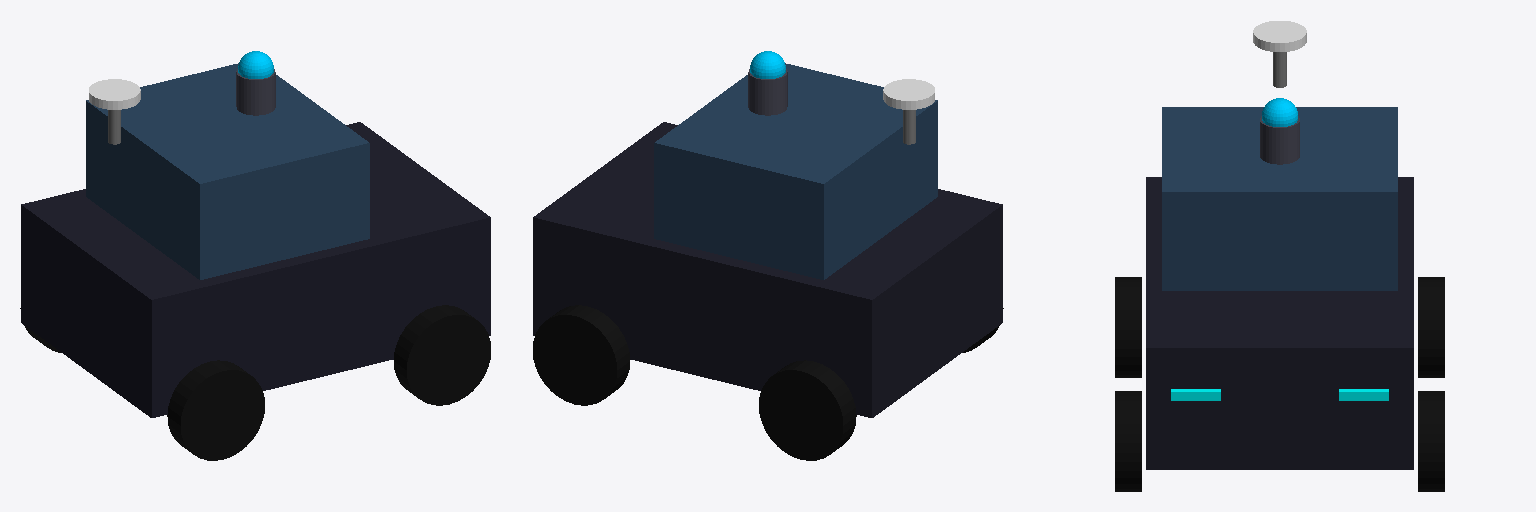
The robot description file, URDF, robot "slam_vehicle":
<?xml version="1.0"?>
<robot name="slam_vehicle">
  <!-- AMR Vehicle URDF - Professional Visualization -->

  <!-- Base link (centro del robot) -->
  <link name="base_link">
    <visual>
      <geometry>
        <box size="1.2 0.8 0.4"/>
      </geometry>
      <origin xyz="0 0 0.2" rpy="0 0 0"/>
      <material name="vehicle_body">
        <color rgba="0.15 0.15 0.2 1.0"/>
      </material>
    </visual>
  </link>

  <!-- Cabina/Techo -->
  <link name="cabin">
    <visual>
      <geometry>
        <box size="0.6 0.7 0.35"/>
      </geometry>
      <material name="cabin_glass">
        <color rgba="0.2 0.3 0.4 0.8"/>
      </material>
    </visual>
  </link>

  <joint name="base_to_cabin" type="fixed">
    <parent link="base_link"/>
    <child link="cabin"/>
    <origin xyz="-0.1 0 0.55" rpy="0 0 0"/>
  </joint>

  <!-- Ruedas -->
  <link name="wheel_fl">
    <visual>
      <geometry><cylinder radius="0.15" length="0.08"/></geometry>
      <origin xyz="0 0 0" rpy="1.5708 0 0"/>
      <material name="wheel"><color rgba="0.1 0.1 0.1 1.0"/></material>
    </visual>
  </link>
  <joint name="base_to_wheel_fl" type="fixed">
    <parent link="base_link"/><child link="wheel_fl"/>
    <origin xyz="0.4 0.45 0.0"/>
  </joint>

  <link name="wheel_fr">
    <visual>
      <geometry><cylinder radius="0.15" length="0.08"/></geometry>
      <origin xyz="0 0 0" rpy="1.5708 0 0"/>
      <material name="wheel"><color rgba="0.1 0.1 0.1 1.0"/></material>
    </visual>
  </link>
  <joint name="base_to_wheel_fr" type="fixed">
    <parent link="base_link"/><child link="wheel_fr"/>
    <origin xyz="0.4 -0.45 0.0"/>
  </joint>

  <link name="wheel_rl">
    <visual>
      <geometry><cylinder radius="0.15" length="0.08"/></geometry>
      <origin xyz="0 0 0" rpy="1.5708 0 0"/>
      <material name="wheel"><color rgba="0.1 0.1 0.1 1.0"/></material>
    </visual>
  </link>
  <joint name="base_to_wheel_rl" type="fixed">
    <parent link="base_link"/><child link="wheel_rl"/>
    <origin xyz="-0.4 0.45 0.0"/>
  </joint>

  <link name="wheel_rr">
    <visual>
      <geometry><cylinder radius="0.15" length="0.08"/></geometry>
      <origin xyz="0 0 0" rpy="1.5708 0 0"/>
      <material name="wheel"><color rgba="0.1 0.1 0.1 1.0"/></material>
    </visual>
  </link>
  <joint name="base_to_wheel_rr" type="fixed">
    <parent link="base_link"/><child link="wheel_rr"/>
    <origin xyz="-0.4 -0.45 0.0"/>
  </joint>

  <!-- LiDAR Velodyne -->
  <link name="velodyne">
    <visual>
      <geometry><cylinder radius="0.06" length="0.12"/></geometry>
      <origin xyz="0 0 0.06"/>
      <material name="lidar_base"><color rgba="0.3 0.3 0.35 1.0"/></material>
    </visual>
  </link>
  <joint name="base_to_lidar" type="fixed">
    <parent link="base_link"/><child link="velodyne"/>
    <origin xyz="0 0 0.75"/>
  </joint>

  <link name="lidar_dome">
    <visual>
      <geometry><sphere radius="0.055"/></geometry>
      <material name="lidar_dome_mat"><color rgba="0.0 0.8 1.0 0.7"/></material>
    </visual>
  </link>
  <joint name="lidar_to_dome" type="fixed">
    <parent link="velodyne"/><child link="lidar_dome"/>
    <origin xyz="0 0 0.13"/>
  </joint>

  <!-- RTK Antenna -->
  <link name="rtk_antenna">
    <visual>
      <geometry><cylinder radius="0.02" length="0.15"/></geometry>
      <origin xyz="0 0 0.075"/>
      <material name="antenna_post"><color rgba="0.5 0.5 0.5 1.0"/></material>
    </visual>
  </link>
  <joint name="base_to_rtk" type="fixed">
    <parent link="base_link"/><child link="rtk_antenna"/>
    <origin xyz="-0.5 0 0.75"/>
  </joint>

  <link name="rtk_dish">
    <visual>
      <geometry><cylinder radius="0.08" length="0.03"/></geometry>
      <material name="antenna_dish"><color rgba="0.9 0.9 0.9 1.0"/></material>
    </visual>
  </link>
  <joint name="rtk_to_dish" type="fixed">
    <parent link="rtk_antenna"/><child link="rtk_dish"/>
    <origin xyz="0 0 0.16"/>
  </joint>

  <!-- LED Lights -->
  <link name="led_front_left">
    <visual>
      <geometry><box size="0.02 0.15 0.03"/></geometry>
      <material name="led_cyan"><color rgba="0.0 1.0 1.0 1.0"/></material>
    </visual>
  </link>
  <joint name="base_to_led_fl" type="fixed">
    <parent link="base_link"/><child link="led_front_left"/>
    <origin xyz="0.61 0.25 0.25"/>
  </joint>

  <link name="led_front_right">
    <visual>
      <geometry><box size="0.02 0.15 0.03"/></geometry>
      <material name="led_cyan"><color rgba="0.0 1.0 1.0 1.0"/></material>
    </visual>
  </link>
  <joint name="base_to_led_fr" type="fixed">
    <parent link="base_link"/><child link="led_front_right"/>
    <origin xyz="0.61 -0.25 0.25"/>
  </joint>

</robot>

--- Facts derived from the render (not from the file) ---
The picture shows the robot from 3 angles, left to right: view 1: azimuth 30°, elevation 25°; view 2: azimuth 150°, elevation 25°; view 3: azimuth 270°, elevation 25°; orthographic projection.
Robot: slam_vehicle — 12 links, 11 joints (11 fixed); root link base_link; default pose: every joint at zero.
Visible links, largest first — view 1: base_link, cabin, wheel_rr, wheel_fr, velodyne, rtk_dish, lidar_dome; view 2: base_link, cabin, wheel_rl, wheel_fl, velodyne, rtk_dish, lidar_dome; view 3: base_link, cabin, wheel_fl, wheel_fr, wheel_rl, wheel_rr, velodyne, rtk_dish, lidar_dome, led_front_left, led_front_right.
Boxes of the visible links, <box> form: base_link: <box>21,122,490,417</box>; cabin: <box>86,63,369,279</box>; wheel_rr: <box>167,360,264,460</box>; wheel_fr: <box>394,305,490,405</box>; velodyne: <box>236,69,275,115</box>; rtk_dish: <box>89,79,140,109</box>; lidar_dome: <box>238,51,273,78</box>; base_link: <box>533,122,1002,417</box>; cabin: <box>654,63,937,279</box>; wheel_rl: <box>759,360,856,460</box>; wheel_fl: <box>533,305,629,405</box>; velodyne: <box>748,69,787,115</box>; rtk_dish: <box>883,79,934,109</box>; lidar_dome: <box>750,51,785,78</box>; base_link: <box>1146,177,1413,469</box>; cabin: <box>1162,107,1397,290</box>; wheel_fl: <box>1418,391,1444,491</box>; wheel_fr: <box>1115,391,1141,491</box>; wheel_rl: <box>1418,277,1444,377</box>; wheel_rr: <box>1115,277,1141,377</box>; velodyne: <box>1260,116,1299,164</box>; rtk_dish: <box>1253,21,1306,51</box>; lidar_dome: <box>1262,98,1297,126</box>; led_front_left: <box>1339,389,1388,400</box>; led_front_right: <box>1171,389,1220,400</box>.
Bounding box of the posed robot: 1.22 × 0.98 × 1.08 m (x, y, z).
Geometry: primitives only (box / cylinder / sphere), no mesh files.